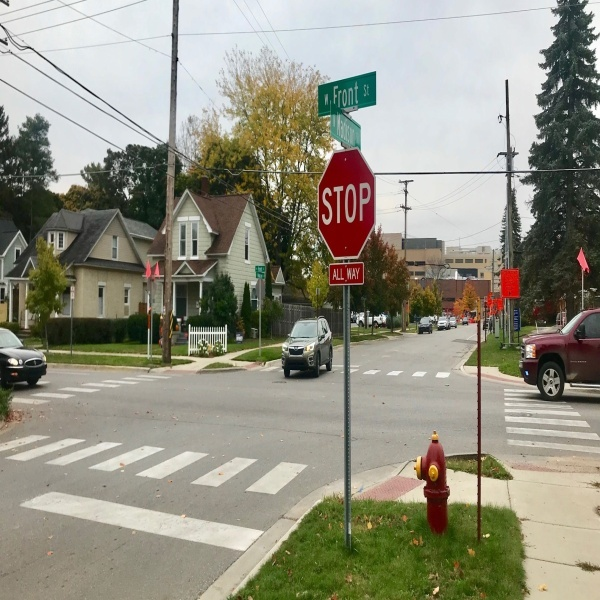stop: (318, 148, 373, 259)
